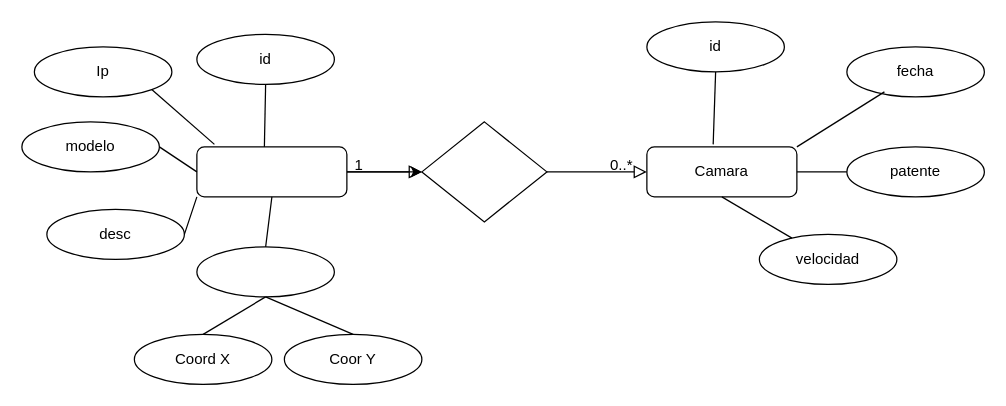
The diagram is 1006 pixels wide and 406 high, and some of its shapes have lost their labels. Each missing label, with the box of its shape:
Obtiene de: (421, 121, 547, 222)
Registro: (196, 146, 347, 197)
ubi: (196, 246, 334, 297)
